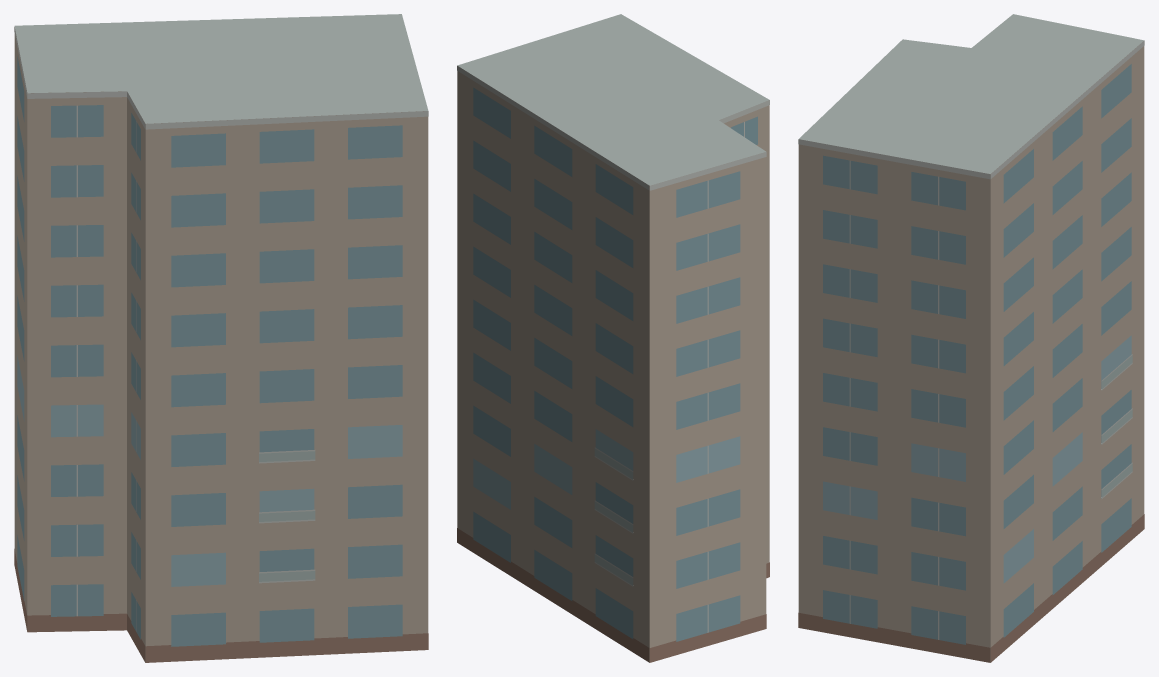
File: survey-upis-32652427.glb
3 views of the same model, side by side, from view 1: azimuth 30°, elevation 25°; view 2: azimuth 150°, elevation 25°; view 3: azimuth 270°, elevation 25° (orthographic). The views are drawn at different scales.
Visible parts, largest first — view 1: survey-upis-32652427.tmp; view 2: survey-upis-32652427.tmp; view 3: survey-upis-32652427.tmp.
Boxes of the visible parts, x1=… form: survey-upis-32652427.tmp: x1=14, y1=14, x2=428, y2=662; survey-upis-32652427.tmp: x1=457, y1=14, x2=769, y2=662; survey-upis-32652427.tmp: x1=798, y1=14, x2=1144, y2=662.
Bounding box in the file's own units: 16.03 × 22.8 × 14.64.
